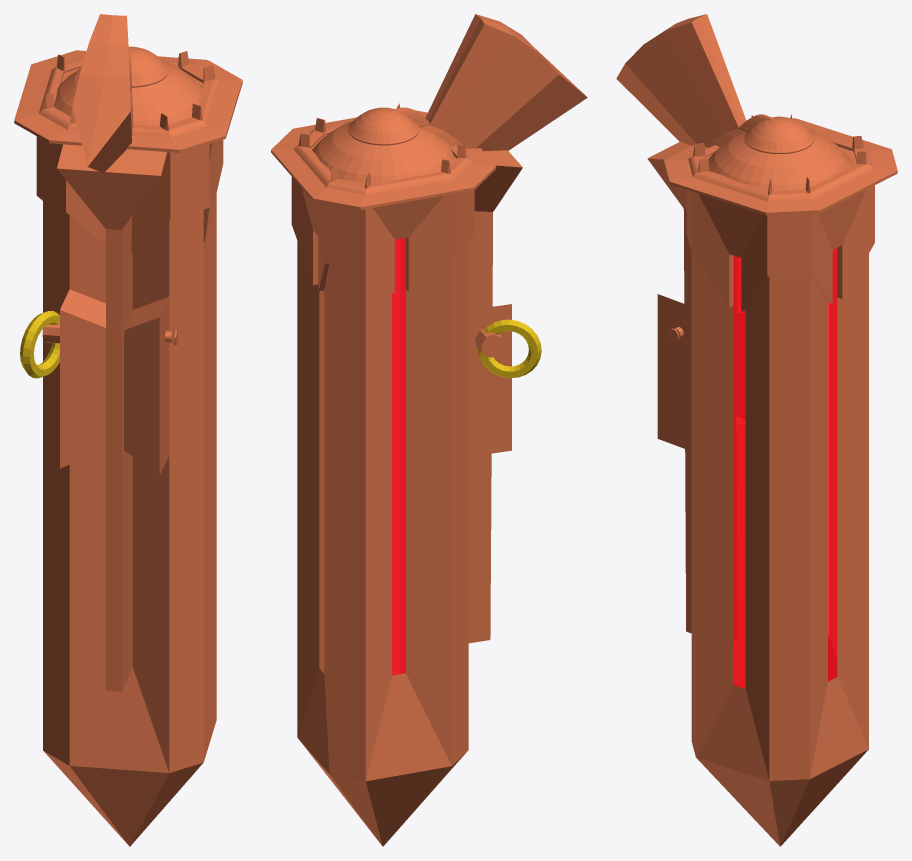
File: LifeConsumable.fbx
3 views of the same model, side by side, from view 1: azimuth 30°, elevation 25°; view 2: azimuth 150°, elevation 25°; view 3: azimuth 270°, elevation 25° (orthographic). The views are drawn at different scales.
Parts seen in each view (by area): view 1: Container, Anneau, Tige; view 2: Container, Liquide, Anneau, Tige; view 3: Container, Liquide.
Part boxes in pixels (x1,y1,x2,y2): Container: (14, 14, 242, 846); Anneau: (20, 311, 59, 378); Tige: (42, 323, 178, 344); Container: (271, 14, 587, 846); Liquide: (392, 237, 405, 675); Anneau: (477, 319, 541, 378); Tige: (475, 327, 504, 357); Container: (616, 14, 897, 846); Liquide: (733, 248, 837, 688).
Bounding box in the file's own units: 33.46 × 115 × 36.54.
